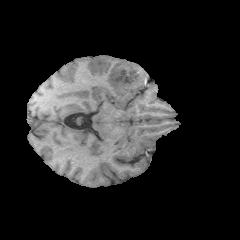glioma: (107, 58, 148, 105)
